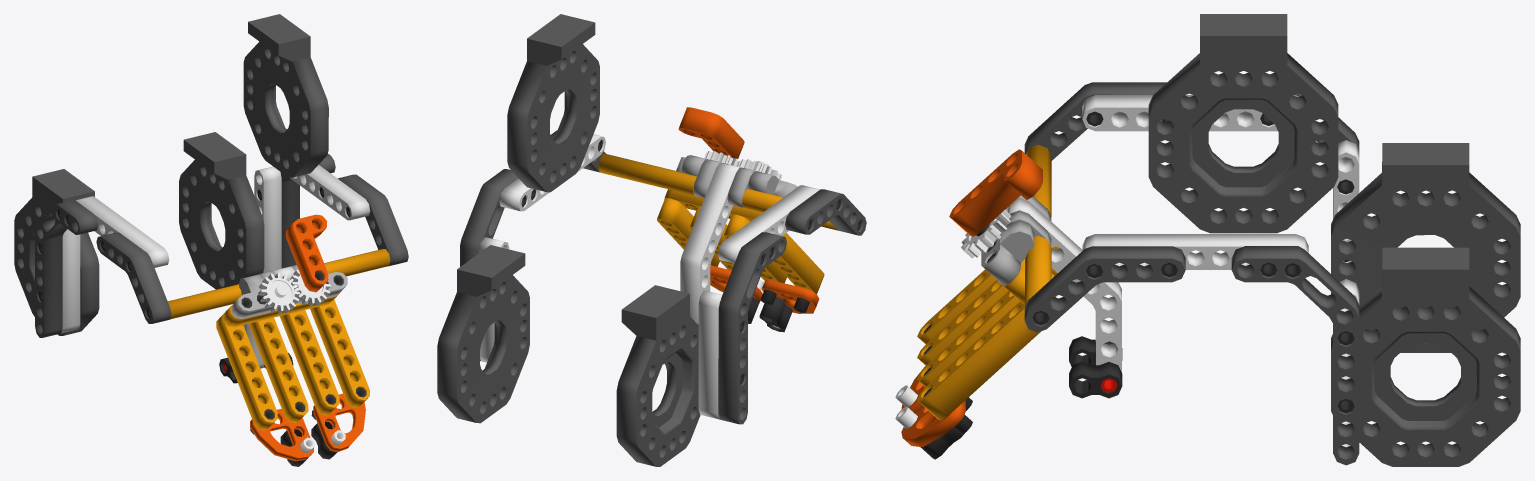
The model's file is gripper.glb.
3 views of the same model, side by side, from view 1: azimuth 30°, elevation 25°; view 2: azimuth 150°, elevation 25°; view 3: azimuth 270°, elevation 25° (orthographic). The views are drawn at different scales.
Visible parts, largest first — view 1: gripperRig, gripperHeadPiece, gripperArmLeft, gripperArmRight, gripperHilt; view 2: gripperRig, gripperHeadPiece, gripperHilt, gripperArmRight, gripperArmLeft; view 3: gripperRig, gripperHeadPiece, gripperArmLeft, gripperHilt, gripperArmRight.
Boxes of the visible parts, bbox=[...] form: gripperRig: bbox=[14, 132, 408, 337]; gripperHeadPiece: bbox=[243, 14, 328, 177]; gripperArmLeft: bbox=[279, 214, 369, 459]; gripperArmRight: bbox=[216, 272, 314, 466]; gripperHilt: bbox=[167, 249, 390, 383]; gripperRig: bbox=[437, 130, 866, 466]; gripperHeadPiece: bbox=[507, 14, 599, 192]; gripperHilt: bbox=[598, 154, 837, 324]; gripperArmRight: bbox=[724, 159, 824, 332]; gripperArmLeft: bbox=[657, 107, 763, 323]; gripperRig: bbox=[1024, 82, 1520, 466]; gripperHeadPiece: bbox=[1148, 14, 1338, 233]; gripperArmLeft: bbox=[895, 149, 1056, 459]; gripperHilt: bbox=[981, 144, 1122, 398]; gripperArmRight: bbox=[895, 246, 1059, 413].
Bounding box in the file's own units: 1.28 × 1.6 × 1.91.
